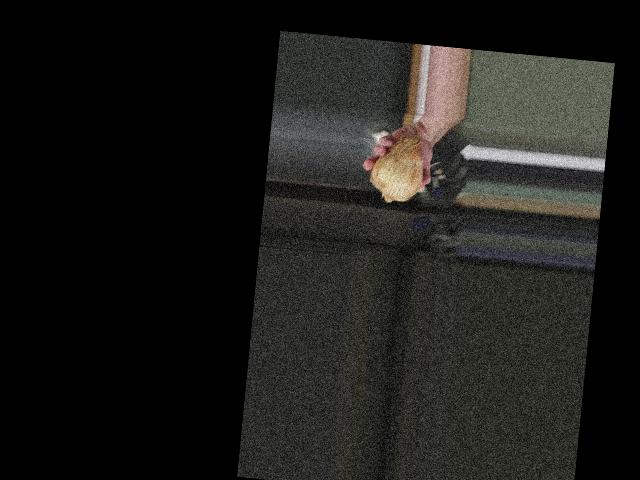onion: (368, 135, 427, 204)
